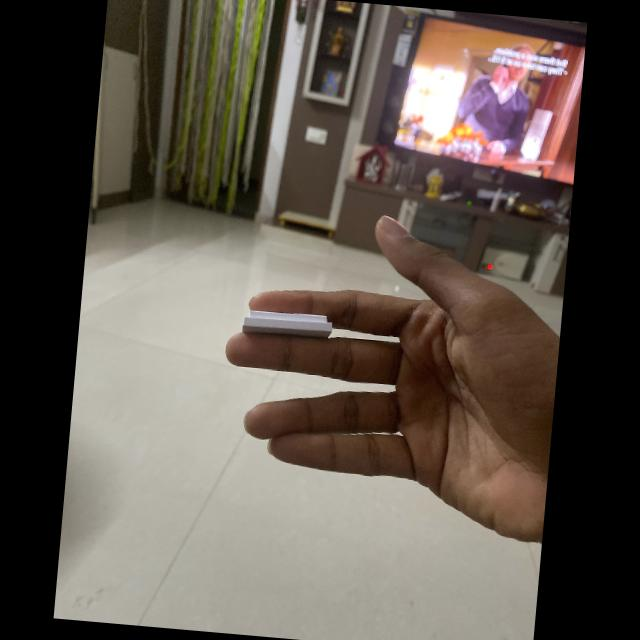RASPBERY PI CAM ENCLOSURE: (242, 308, 334, 340)
